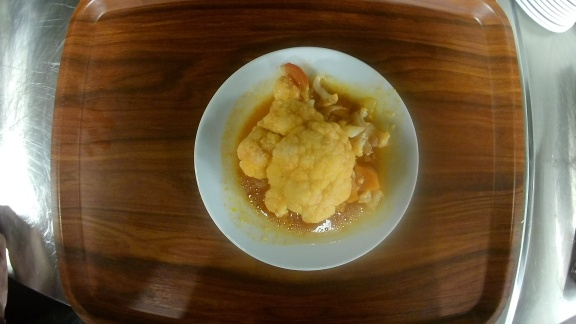karnibahar: (193, 46, 421, 273)
